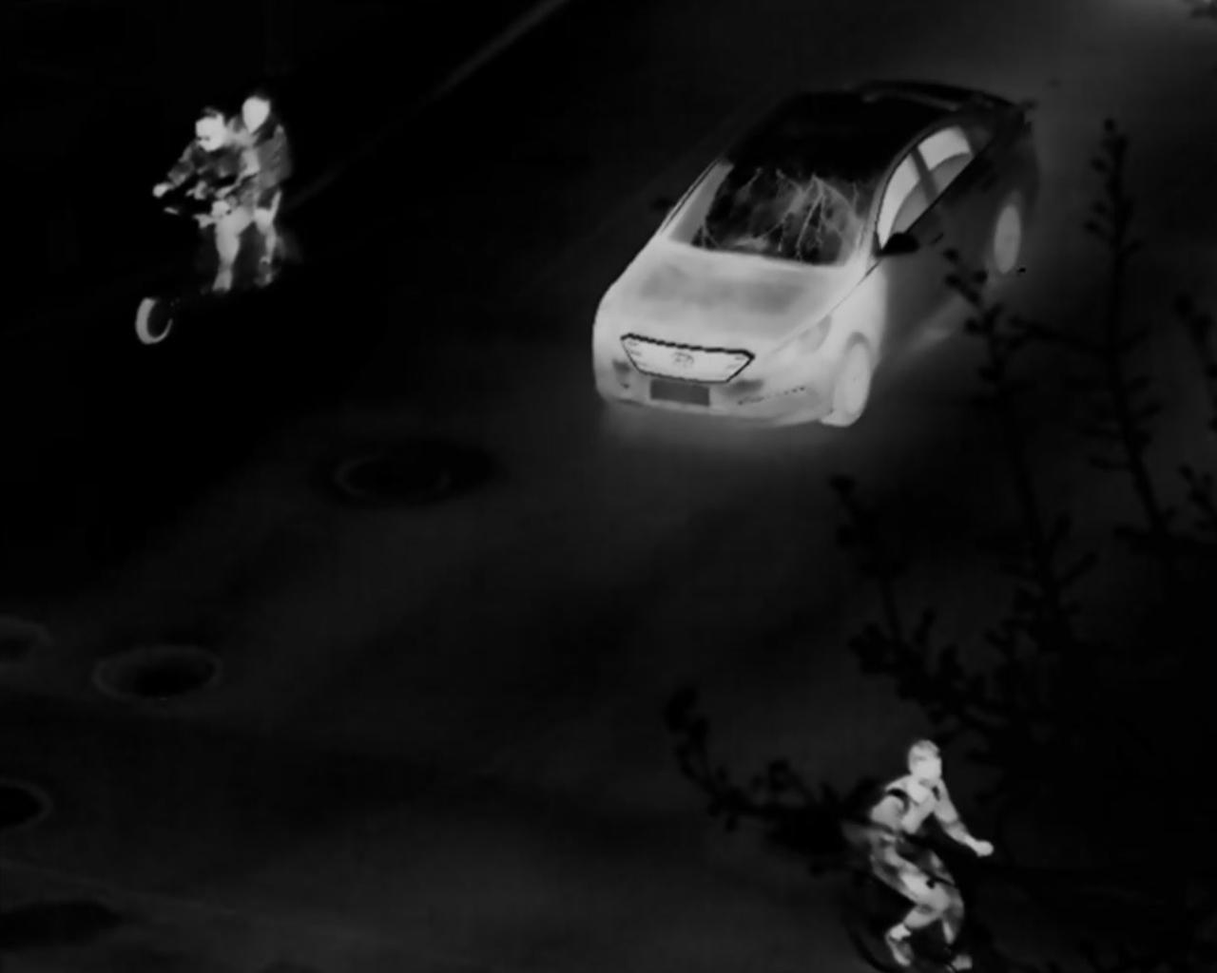person: (866, 738, 994, 973), (151, 107, 260, 295), (227, 92, 291, 286)
